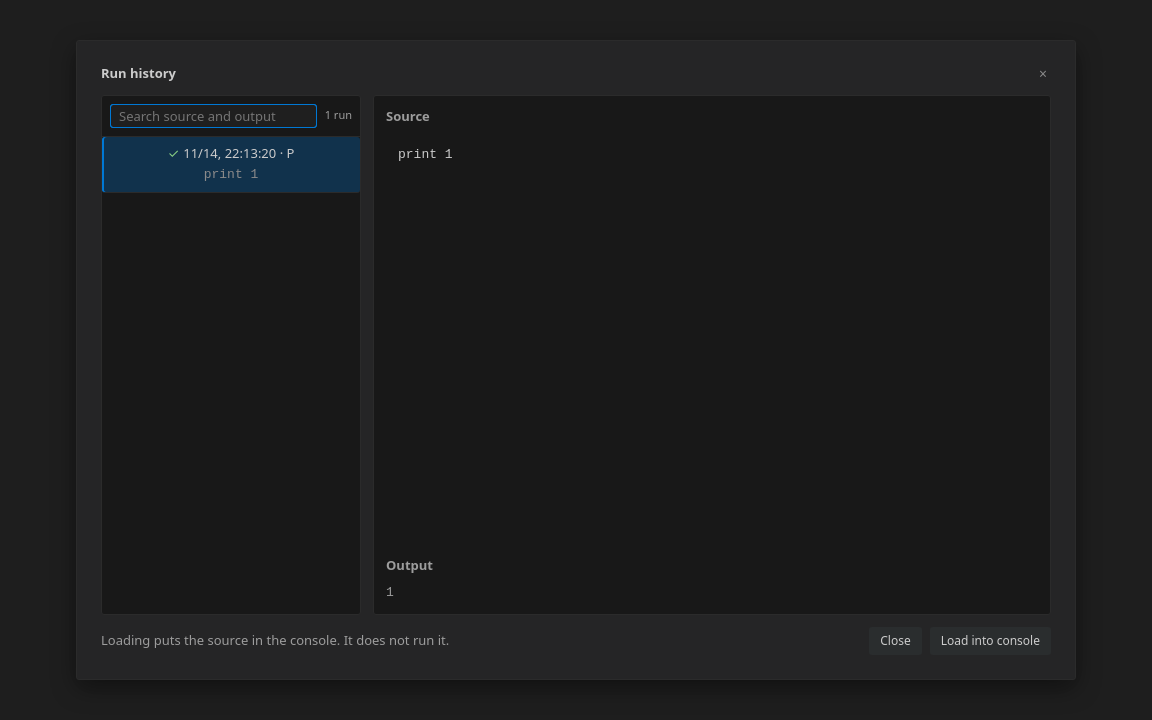
Test case: RunHistoryDialog › says the search found nothing, rather than looking empty
This screenshot has width=1152, height=720.
Check: the text "print 1" below "1 run" is shown, box top-left (204, 167), bottom-right (258, 182)
Type "zzz" into the search field named "Search the run history". click: (213, 116)
box: top-left (110, 104), bottom-right (317, 128)
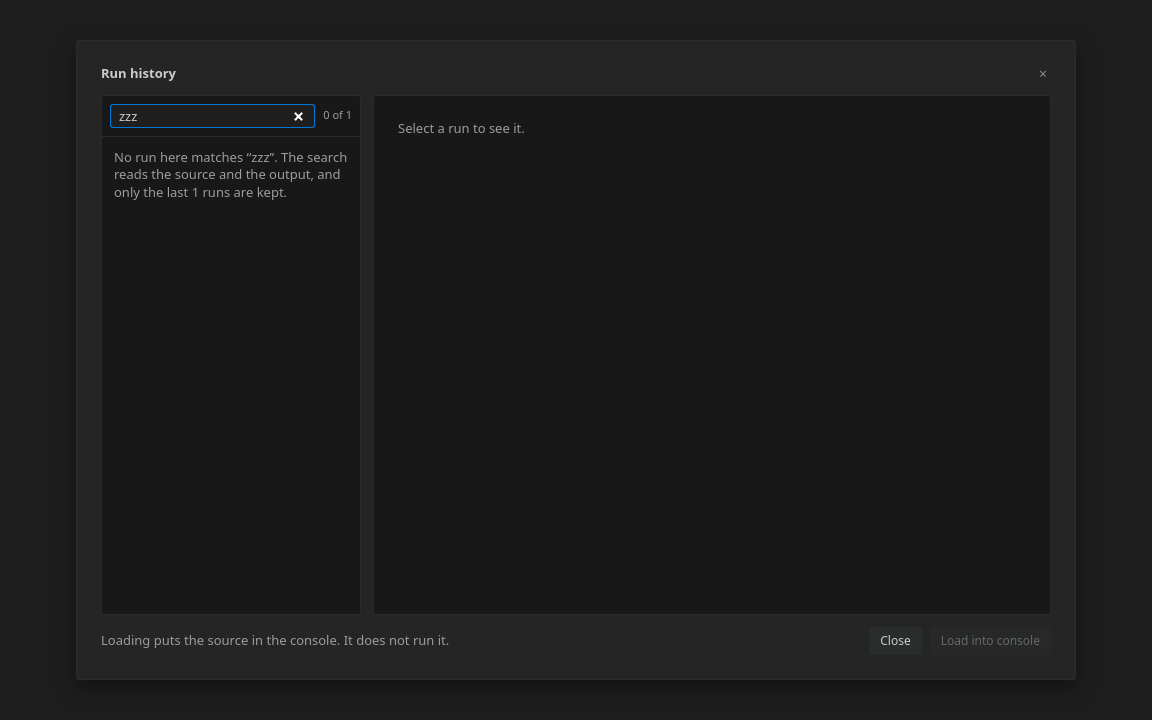
Check: the text "No run here matches" is shown, box top-left (114, 148), bottom-right (251, 166)
